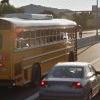buses: (0, 15, 83, 86)
